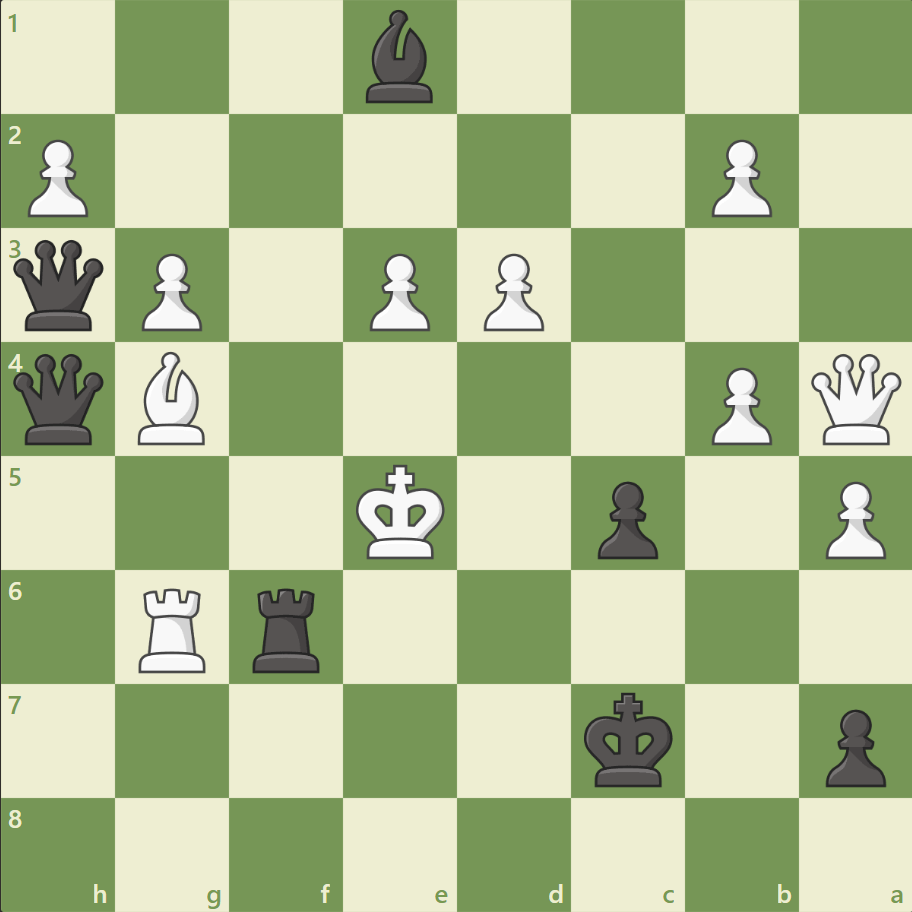B: (131, 347, 215, 449)
K: (351, 458, 451, 566)
P: (701, 359, 776, 450), (474, 246, 549, 337), (133, 246, 208, 337), (701, 132, 776, 223), (20, 132, 95, 223), (815, 473, 889, 564), (361, 246, 435, 337)
Q: (805, 349, 904, 449)
R: (133, 579, 215, 676)
b: (358, 6, 442, 109)
k: (579, 685, 679, 793)
p: (815, 700, 889, 791), (588, 473, 662, 564)
q: (10, 349, 109, 449), (10, 236, 109, 335)
r: (246, 579, 329, 676)
